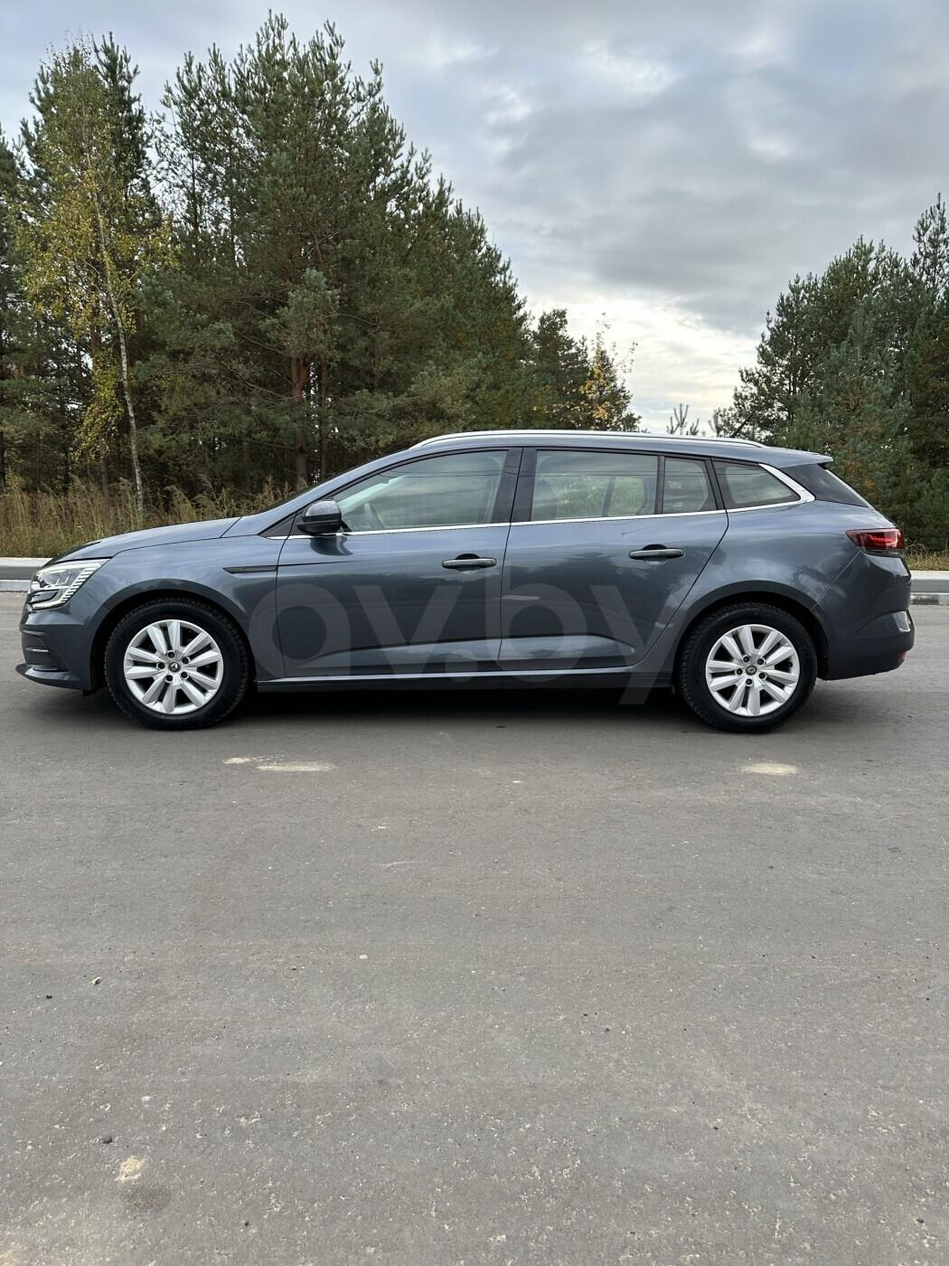Megane_2020: (20, 420, 922, 760)
